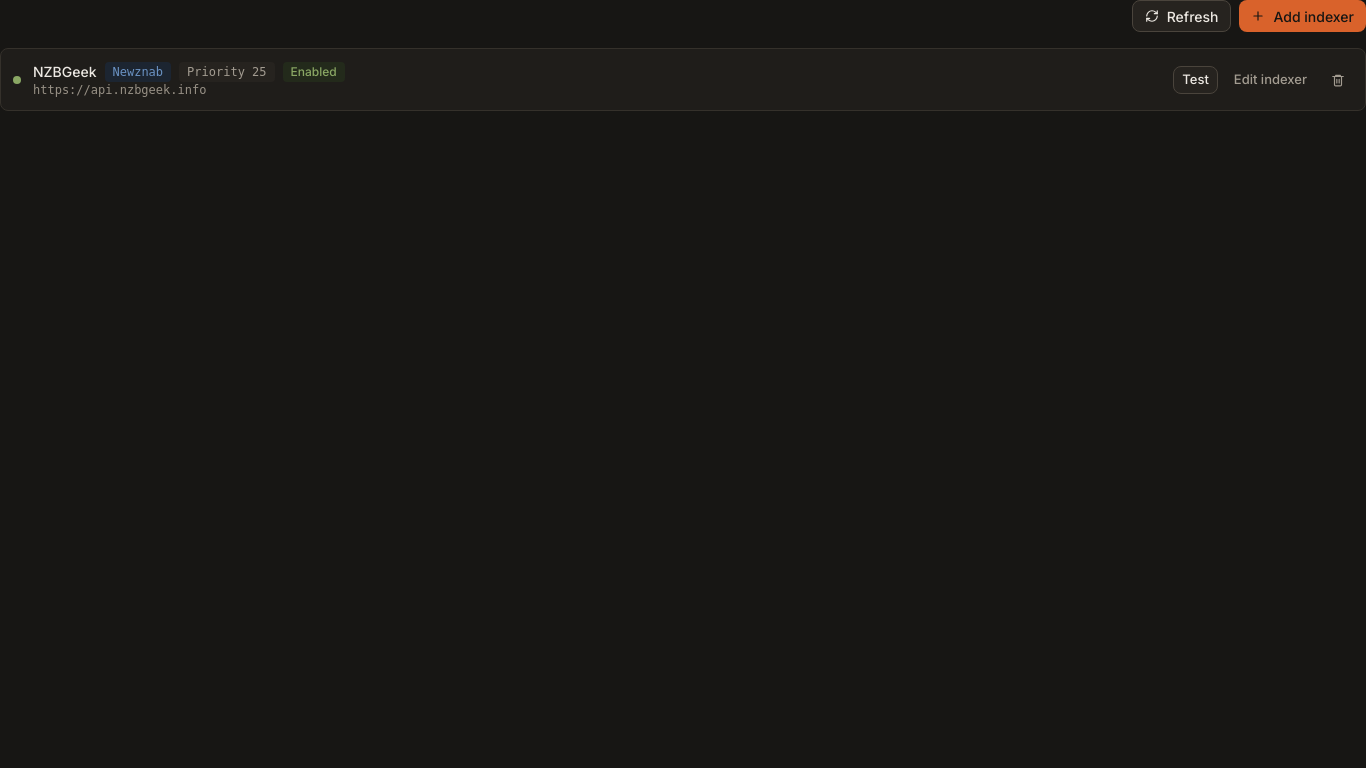
Test: IndexerSettings category picker › recovers via Reload after a failed first load
Click the button "Edit indexer": point(1270, 80) top-left (1226, 66), bottom-right (1315, 94)
(page scrolled)
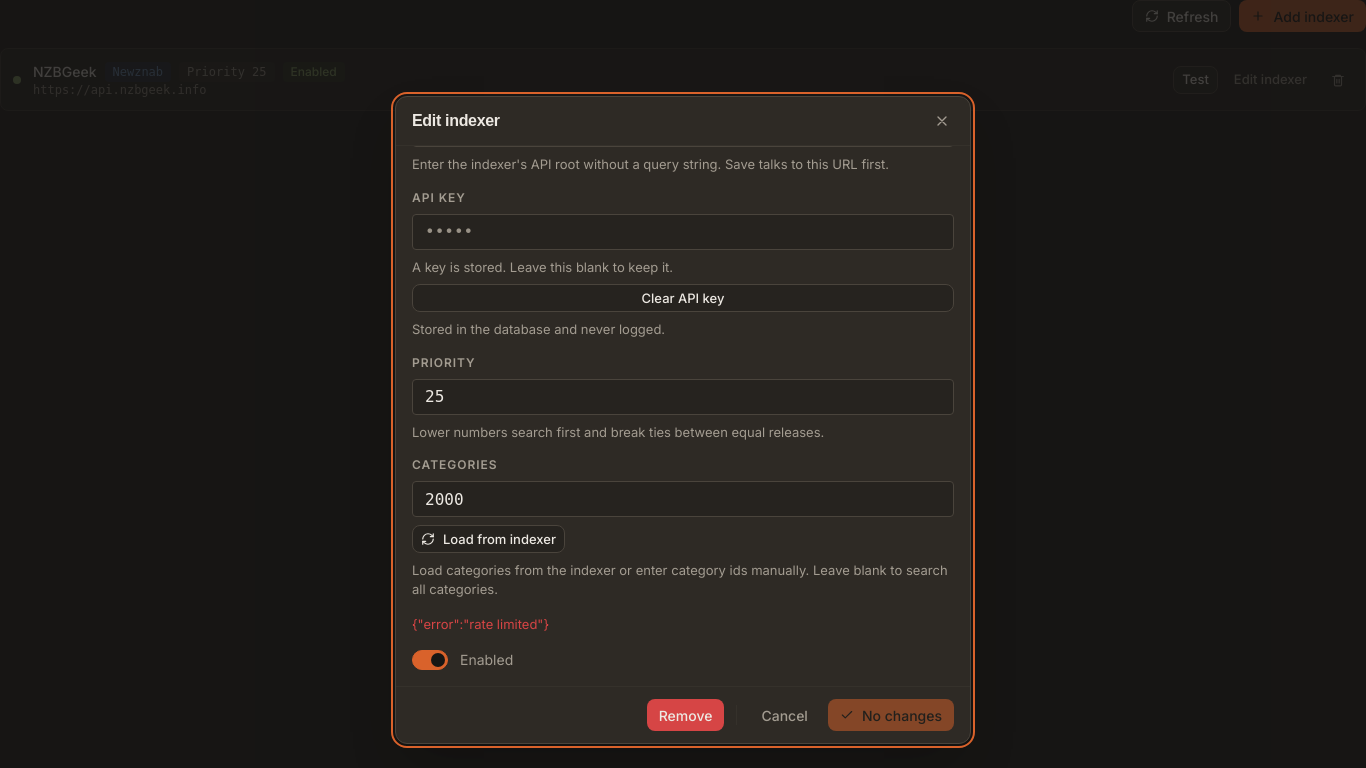
Check: the field with id "indexer-categories" is shown, box top-left (412, 481), bottom-right (954, 517)
Check: the text "rate limited" is shown, box top-left (412, 616), bottom-right (549, 632)
Check: the button "Load from indexer" is shown
Click the button "Load from indexer": point(488, 539) top-left (412, 525), bottom-right (565, 553)
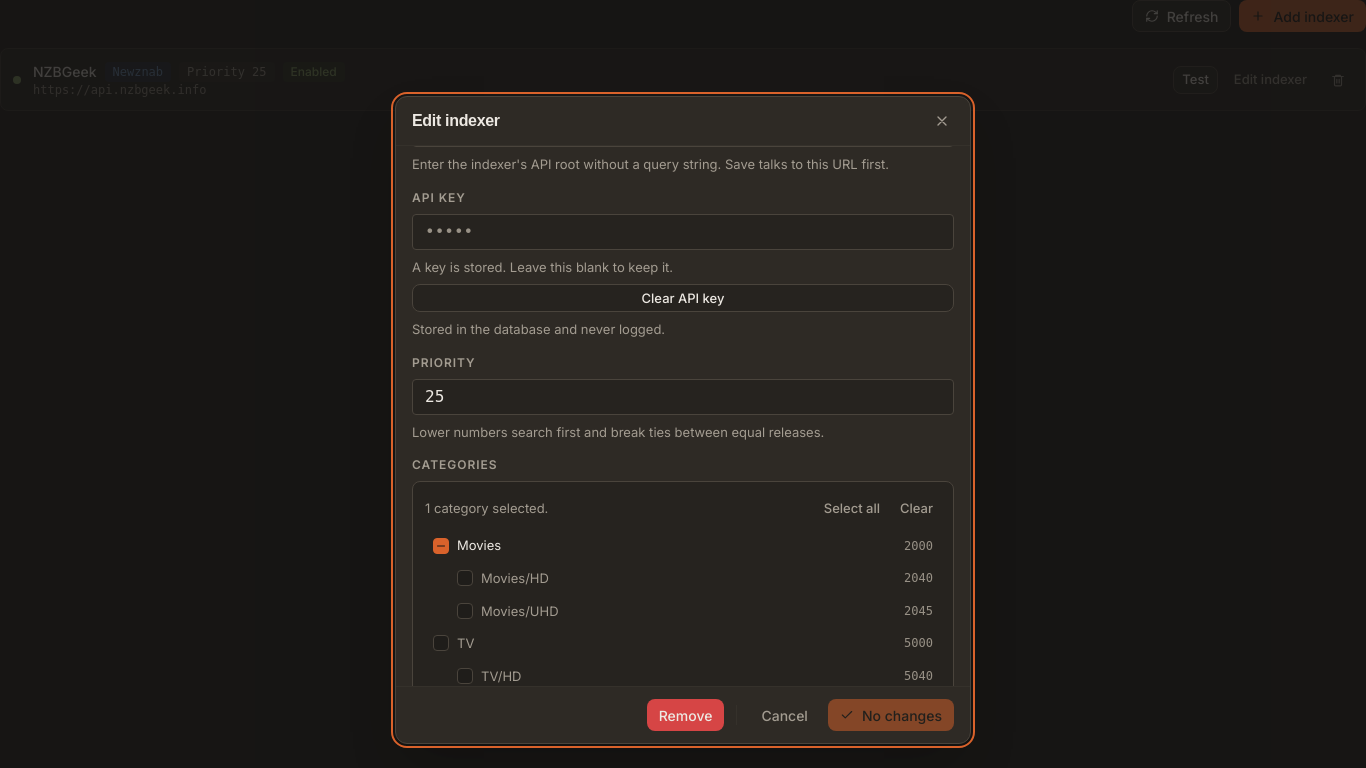
Check: the text "Movies/HD" is shown, box top-left (481, 570), bottom-right (549, 586)
